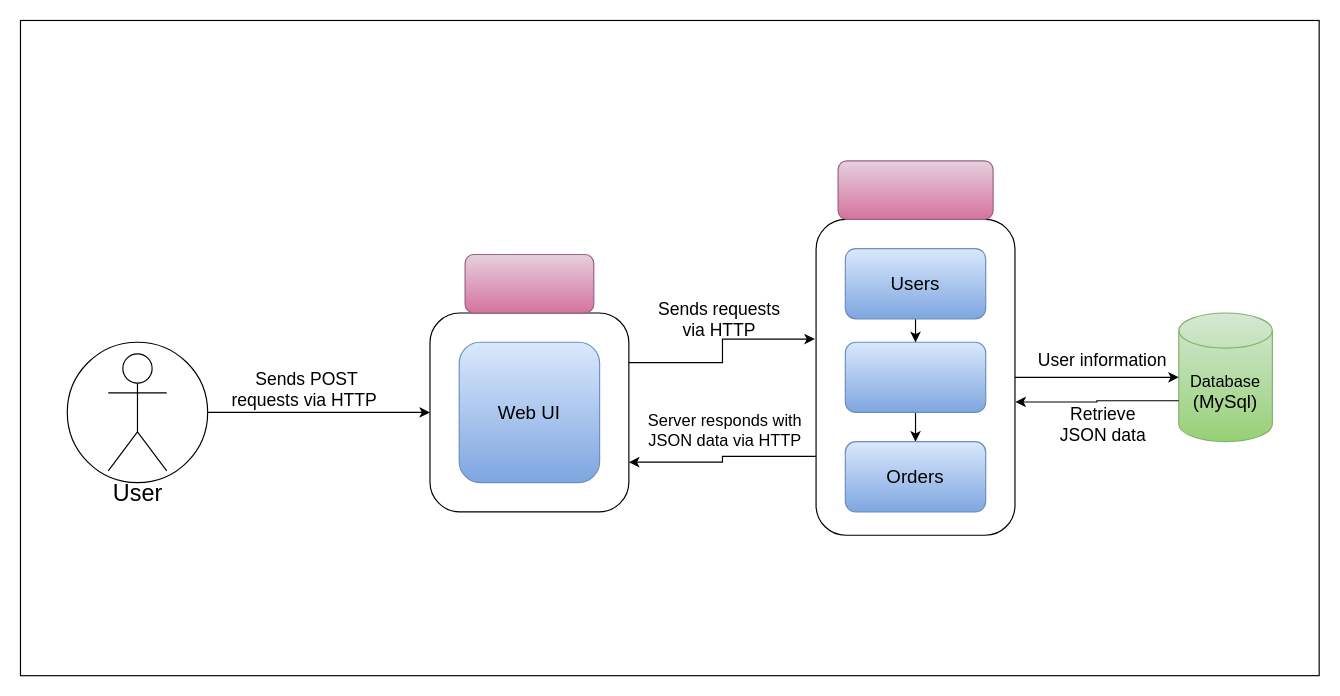
Image size: 1340x696. Some labels were removed from this diagram. The shapes that lost their labels are listed below. From the top down, each one's centre as x and y in pixels, then its label:
pixel 915 189: Backend (Java - Spring Boot)
pixel 529 283: Frontend (Html, Css, JS)
pixel 915 376: Products
